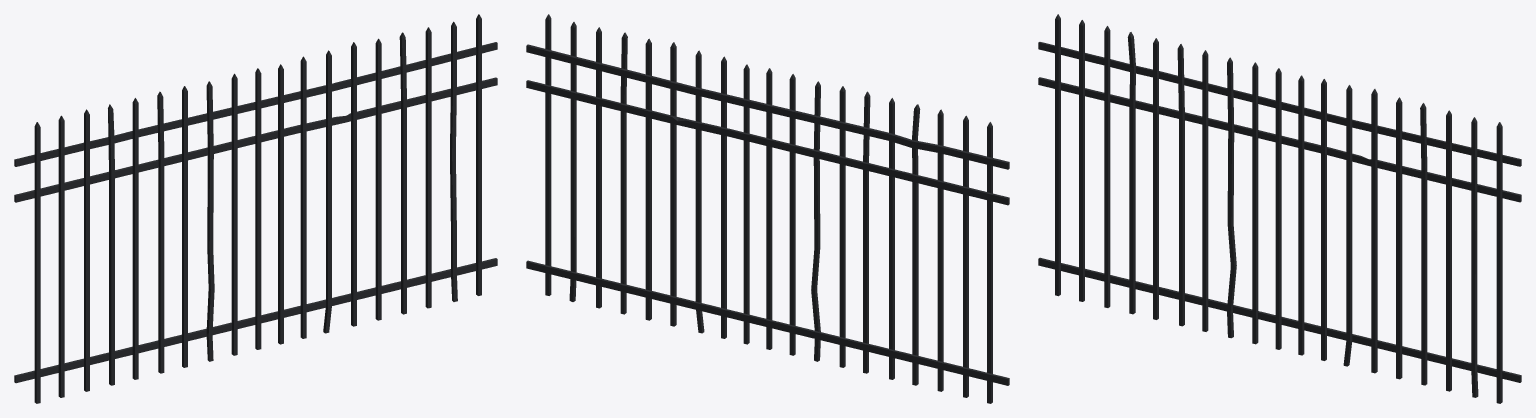
Rendered from SM_Bld_Metal_Fence_02.obj.
3 views of the same model, side by side, from view 1: azimuth 30°, elevation 25°; view 2: azimuth 150°, elevation 25°; view 3: azimuth 330°, elevation 25° (orthographic).
Visible parts, largest first — view 1: SM_Bld_Metal_Fence_02_0; view 2: SM_Bld_Metal_Fence_02_0; view 3: SM_Bld_Metal_Fence_02_0.
Boxes of the visible parts, x1,y1,x2,y2 form: SM_Bld_Metal_Fence_02_0: [14, 14, 497, 403]; SM_Bld_Metal_Fence_02_0: [526, 14, 1009, 403]; SM_Bld_Metal_Fence_02_0: [1038, 14, 1521, 403].
Size of the model in its own units: 5 by 2.81 by 0.0814.
Materials: 1 (1 with a texture image).
